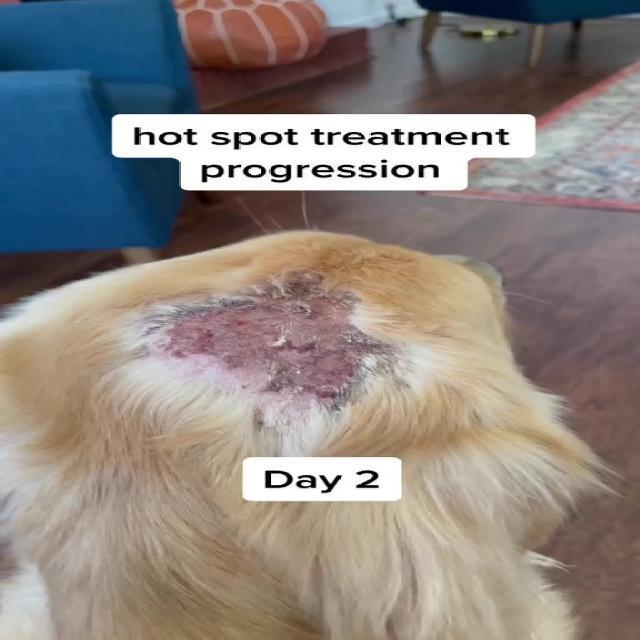hac lao: (102, 247, 450, 426)
